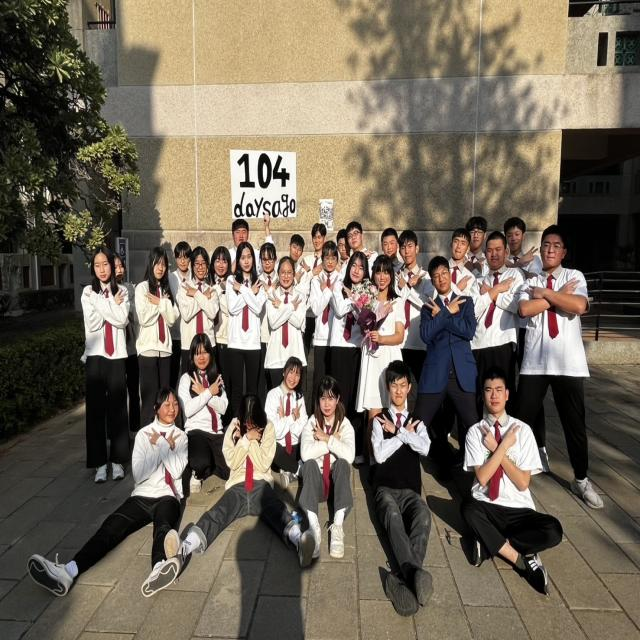sit: (40, 399, 190, 610), (438, 372, 556, 608), (361, 356, 434, 640), (200, 396, 282, 552), (286, 382, 360, 550), (177, 328, 230, 485), (260, 354, 310, 473)
stand: (526, 231, 598, 510), (470, 236, 527, 445), (420, 255, 480, 444), (82, 246, 125, 479), (261, 250, 306, 449), (396, 227, 438, 440), (99, 253, 137, 464), (227, 243, 267, 441), (138, 248, 180, 435), (334, 254, 378, 426), (305, 245, 348, 405), (363, 257, 406, 415), (296, 218, 330, 414), (188, 242, 215, 402), (170, 238, 194, 406), (212, 240, 233, 415)
